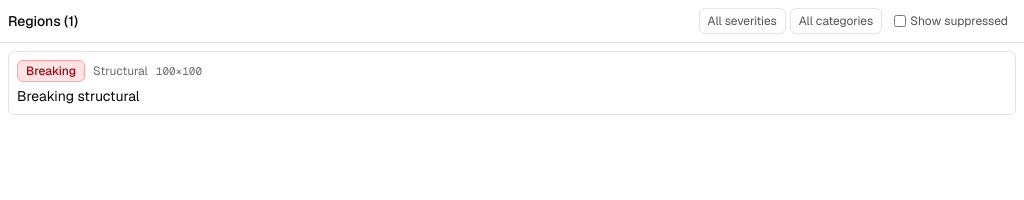
Test: RegionListPanel › source='layout_suppressed' rows hidden by default; visible when toggle on
Expected: the text "Regions (1)" is shown, [8, 11, 78, 31]
Click the checkbox labelled "Show suppressed": (900, 21) [894, 15, 906, 27]
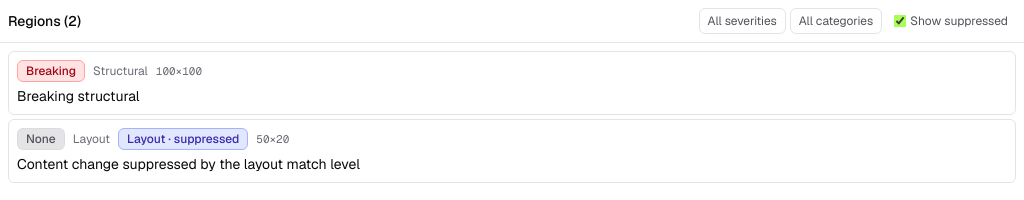
Expected: the button with aria-label "None layout: Content change suppressed by the layout match l" is shown, [8, 119, 1016, 183]
Expected: the text "Regions (2)" is shown, [8, 11, 81, 31]
